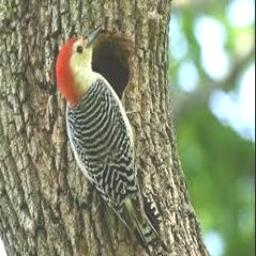Woodpecker: (56, 27, 172, 256)
